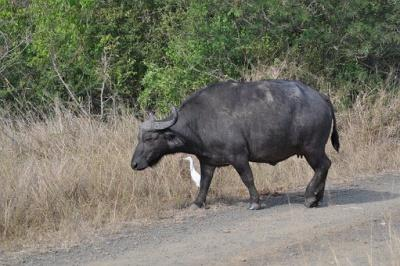buffalo: (131, 79, 339, 209)
